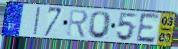5: (116, 12, 139, 42)
7: (43, 7, 64, 38)
E: (135, 12, 161, 44)
I: (32, 6, 42, 37)
O: (87, 11, 113, 40)
R: (66, 9, 89, 40)
